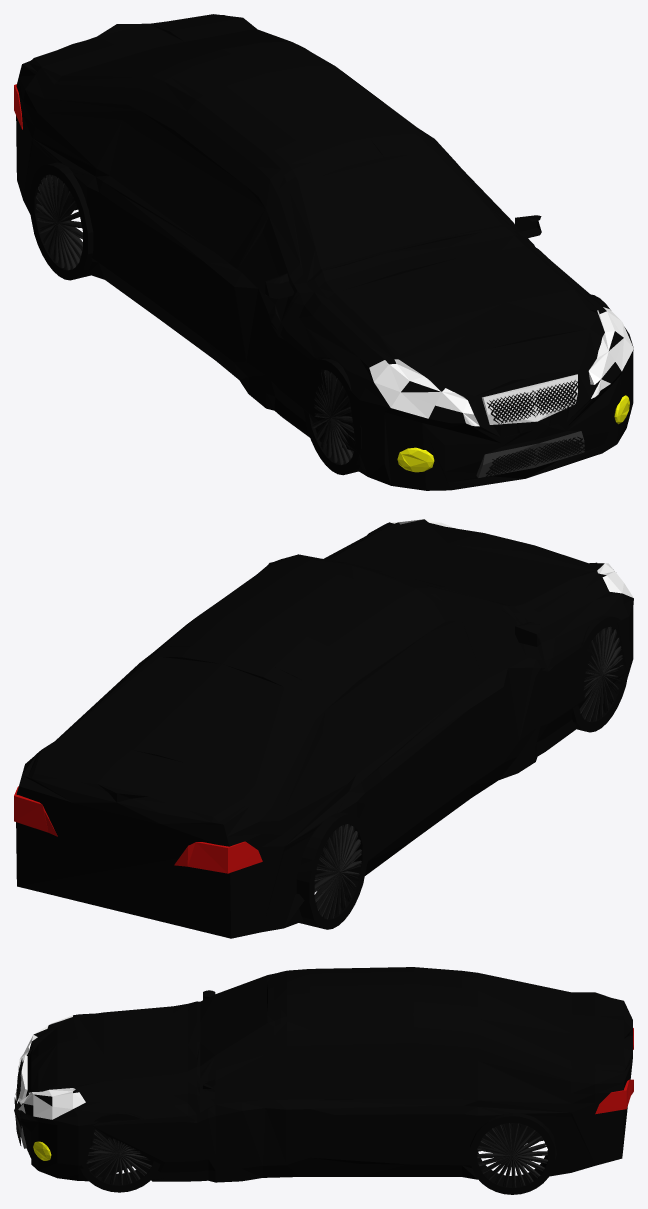
The model's file is CROWN_holefilled3.obj.
3 renders of one model, top to bottom at view 1: azimuth 30°, elevation 25°; view 2: azimuth 150°, elevation 25°; view 3: azimuth 270°, elevation 25°, orthographic. The views are drawn at different scales.
Parts seen in each view (by area): view 1: object 2, auto_filled_holes; view 2: object 2, auto_filled_holes; view 3: object 2, auto_filled_holes.
Boxes of the visible parts, box(x1,y1,x2,y2) form: object 2: box(14, 14, 633, 490); auto_filled_holes: box(53, 162, 584, 476); object 2: box(14, 519, 633, 938); auto_filled_holes: box(284, 622, 627, 927); object 2: box(14, 967, 633, 1194); auto_filled_holes: box(16, 1093, 165, 1181).
Bounding box in the file's own units: 38.53 × 28.52 × 99.82.
